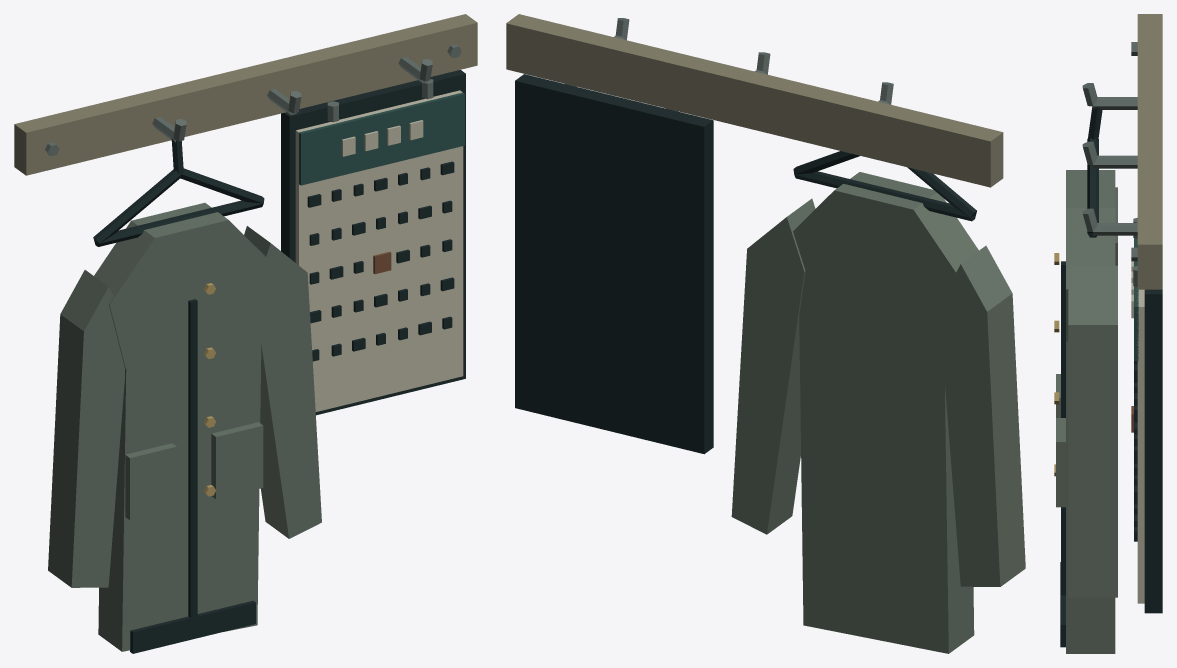
File: v116-yard-calendar-coat.glb
The picture shows the model from 3 angles, left to right: view 1: azimuth 30°, elevation 25°; view 2: azimuth 150°, elevation 25°; view 3: azimuth 270°, elevation 25°; orthographic projection. The views are drawn at different scales.
Parts seen in each view (by area): view 1: calendar-coat; view 2: calendar-coat; view 3: calendar-coat.
Boxes of the visible parts, x1=… form: calendar-coat: x1=14, y1=14, x2=477, y2=653; calendar-coat: x1=506, y1=14, x2=1025, y2=653; calendar-coat: x1=1054, y1=14, x2=1162, y2=653.
Size of the model in its own units: 1.1 by 1.2 by 0.218.
